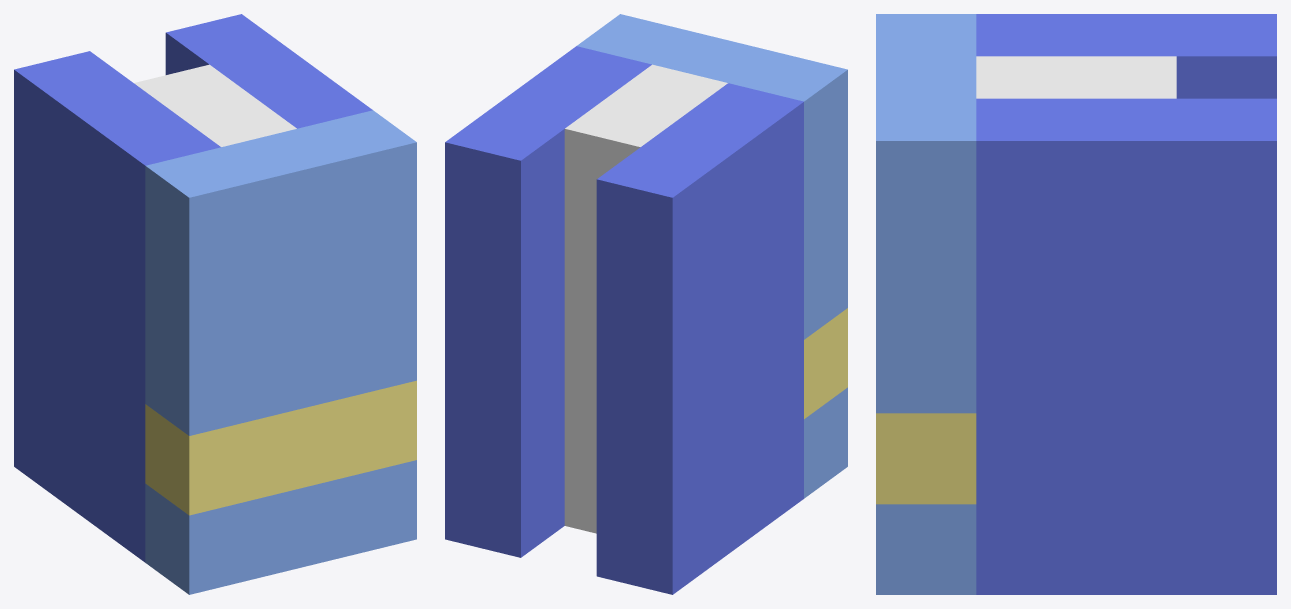
File: book_blue.obj
3 renders of one model, left to right at view 1: azimuth 30°, elevation 25°; view 2: azimuth 150°, elevation 25°; view 3: azimuth 270°, elevation 25°, orthographic. The views are drawn at different scales.
Size of the model in its own units: 0.3 by 0.5 by 0.4.
1 material, 1 textured.
